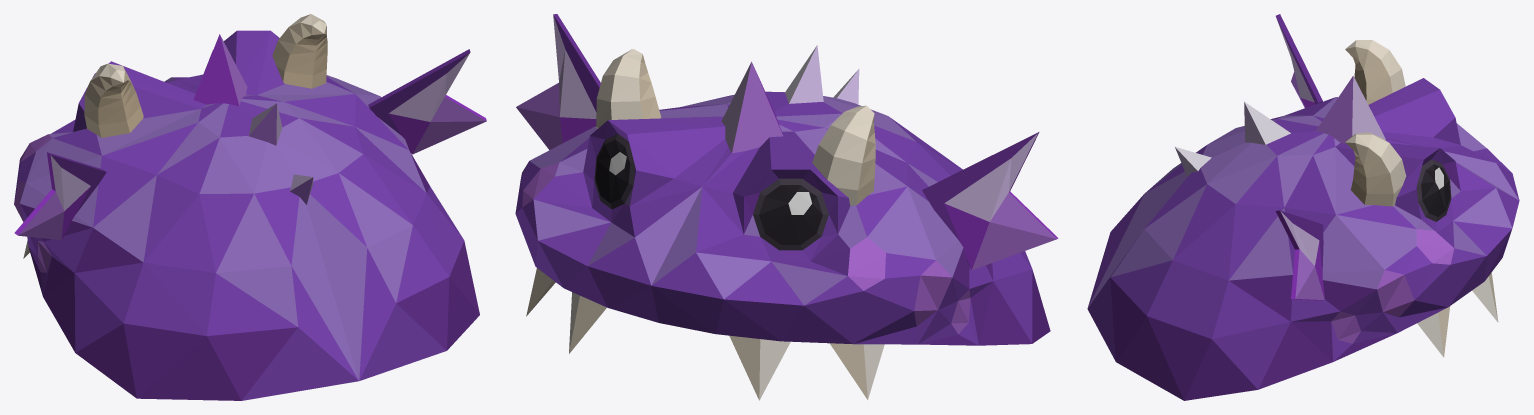
File: Cosmetic_Dragon_Hat_Purple.glb
3 views of the same model, side by side, from view 1: azimuth 30°, elevation 25°; view 2: azimuth 150°, elevation 25°; view 3: azimuth 270°, elevation 25° (orthographic). The views are drawn at different scales.
Visible parts, largest first — view 1: Cosmetic_Dragon_Hat_Purple; view 2: Cosmetic_Dragon_Hat_Purple; view 3: Cosmetic_Dragon_Hat_Purple.
Boxes of the visible parts, bbox=[...] form: Cosmetic_Dragon_Hat_Purple: bbox=[14, 14, 486, 400]; Cosmetic_Dragon_Hat_Purple: bbox=[515, 14, 1058, 400]; Cosmetic_Dragon_Hat_Purple: bbox=[1087, 14, 1519, 400].
Size of the model in its own units: 1.46 by 0.7666 by 1.22.
